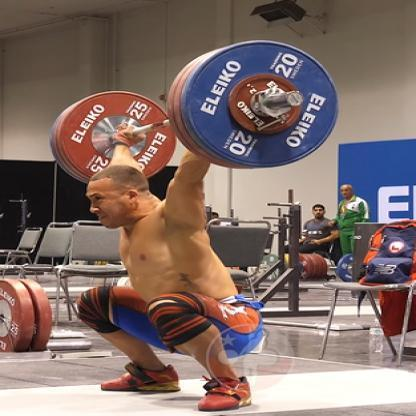barbell: (50, 38, 341, 186)
